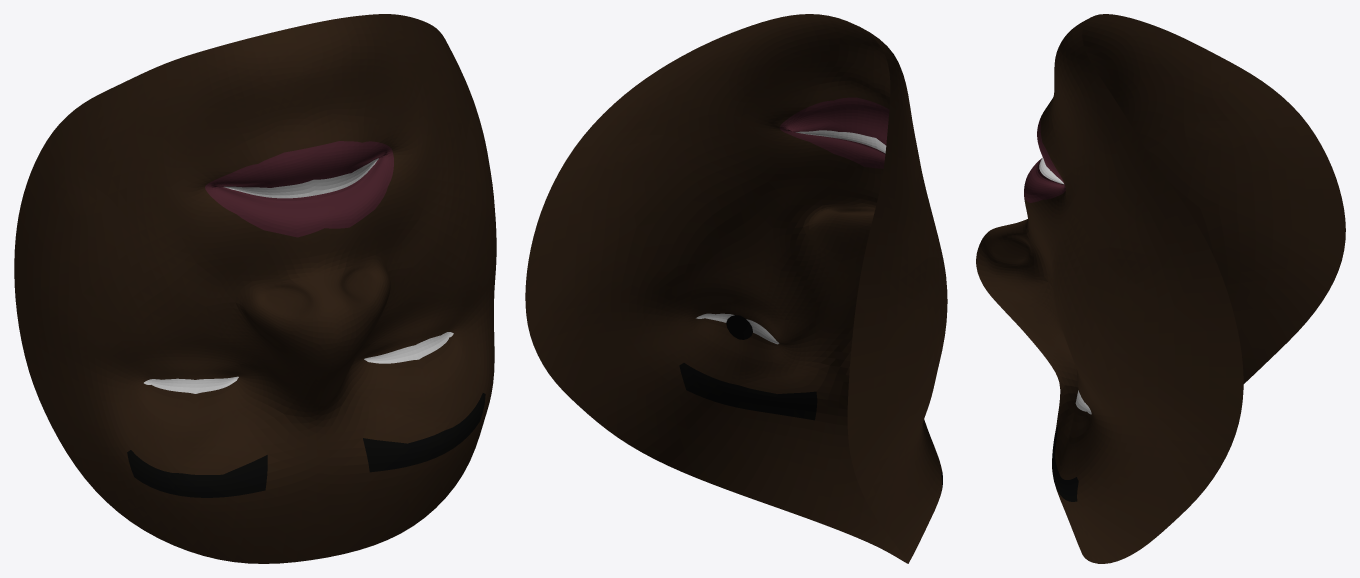
File: VID-20250515-WA0003_f_01487.obj
3 views of the same model, side by side, from view 1: azimuth 30°, elevation 25°; view 2: azimuth 150°, elevation 25°; view 3: azimuth 270°, elevation 25° (orthographic). The views are drawn at different scales.
Visible parts, largest first — view 1: face_mesh_subdivided; view 2: face_mesh_subdivided; view 3: face_mesh_subdivided.
Boxes of the visible parts, bbox=[...] form: face_mesh_subdivided: bbox=[14, 14, 496, 563]; face_mesh_subdivided: bbox=[525, 14, 947, 563]; face_mesh_subdivided: bbox=[976, 14, 1345, 563].
Bounding box in the file's own units: 0.4952 × 0.6149 × 0.4185.
